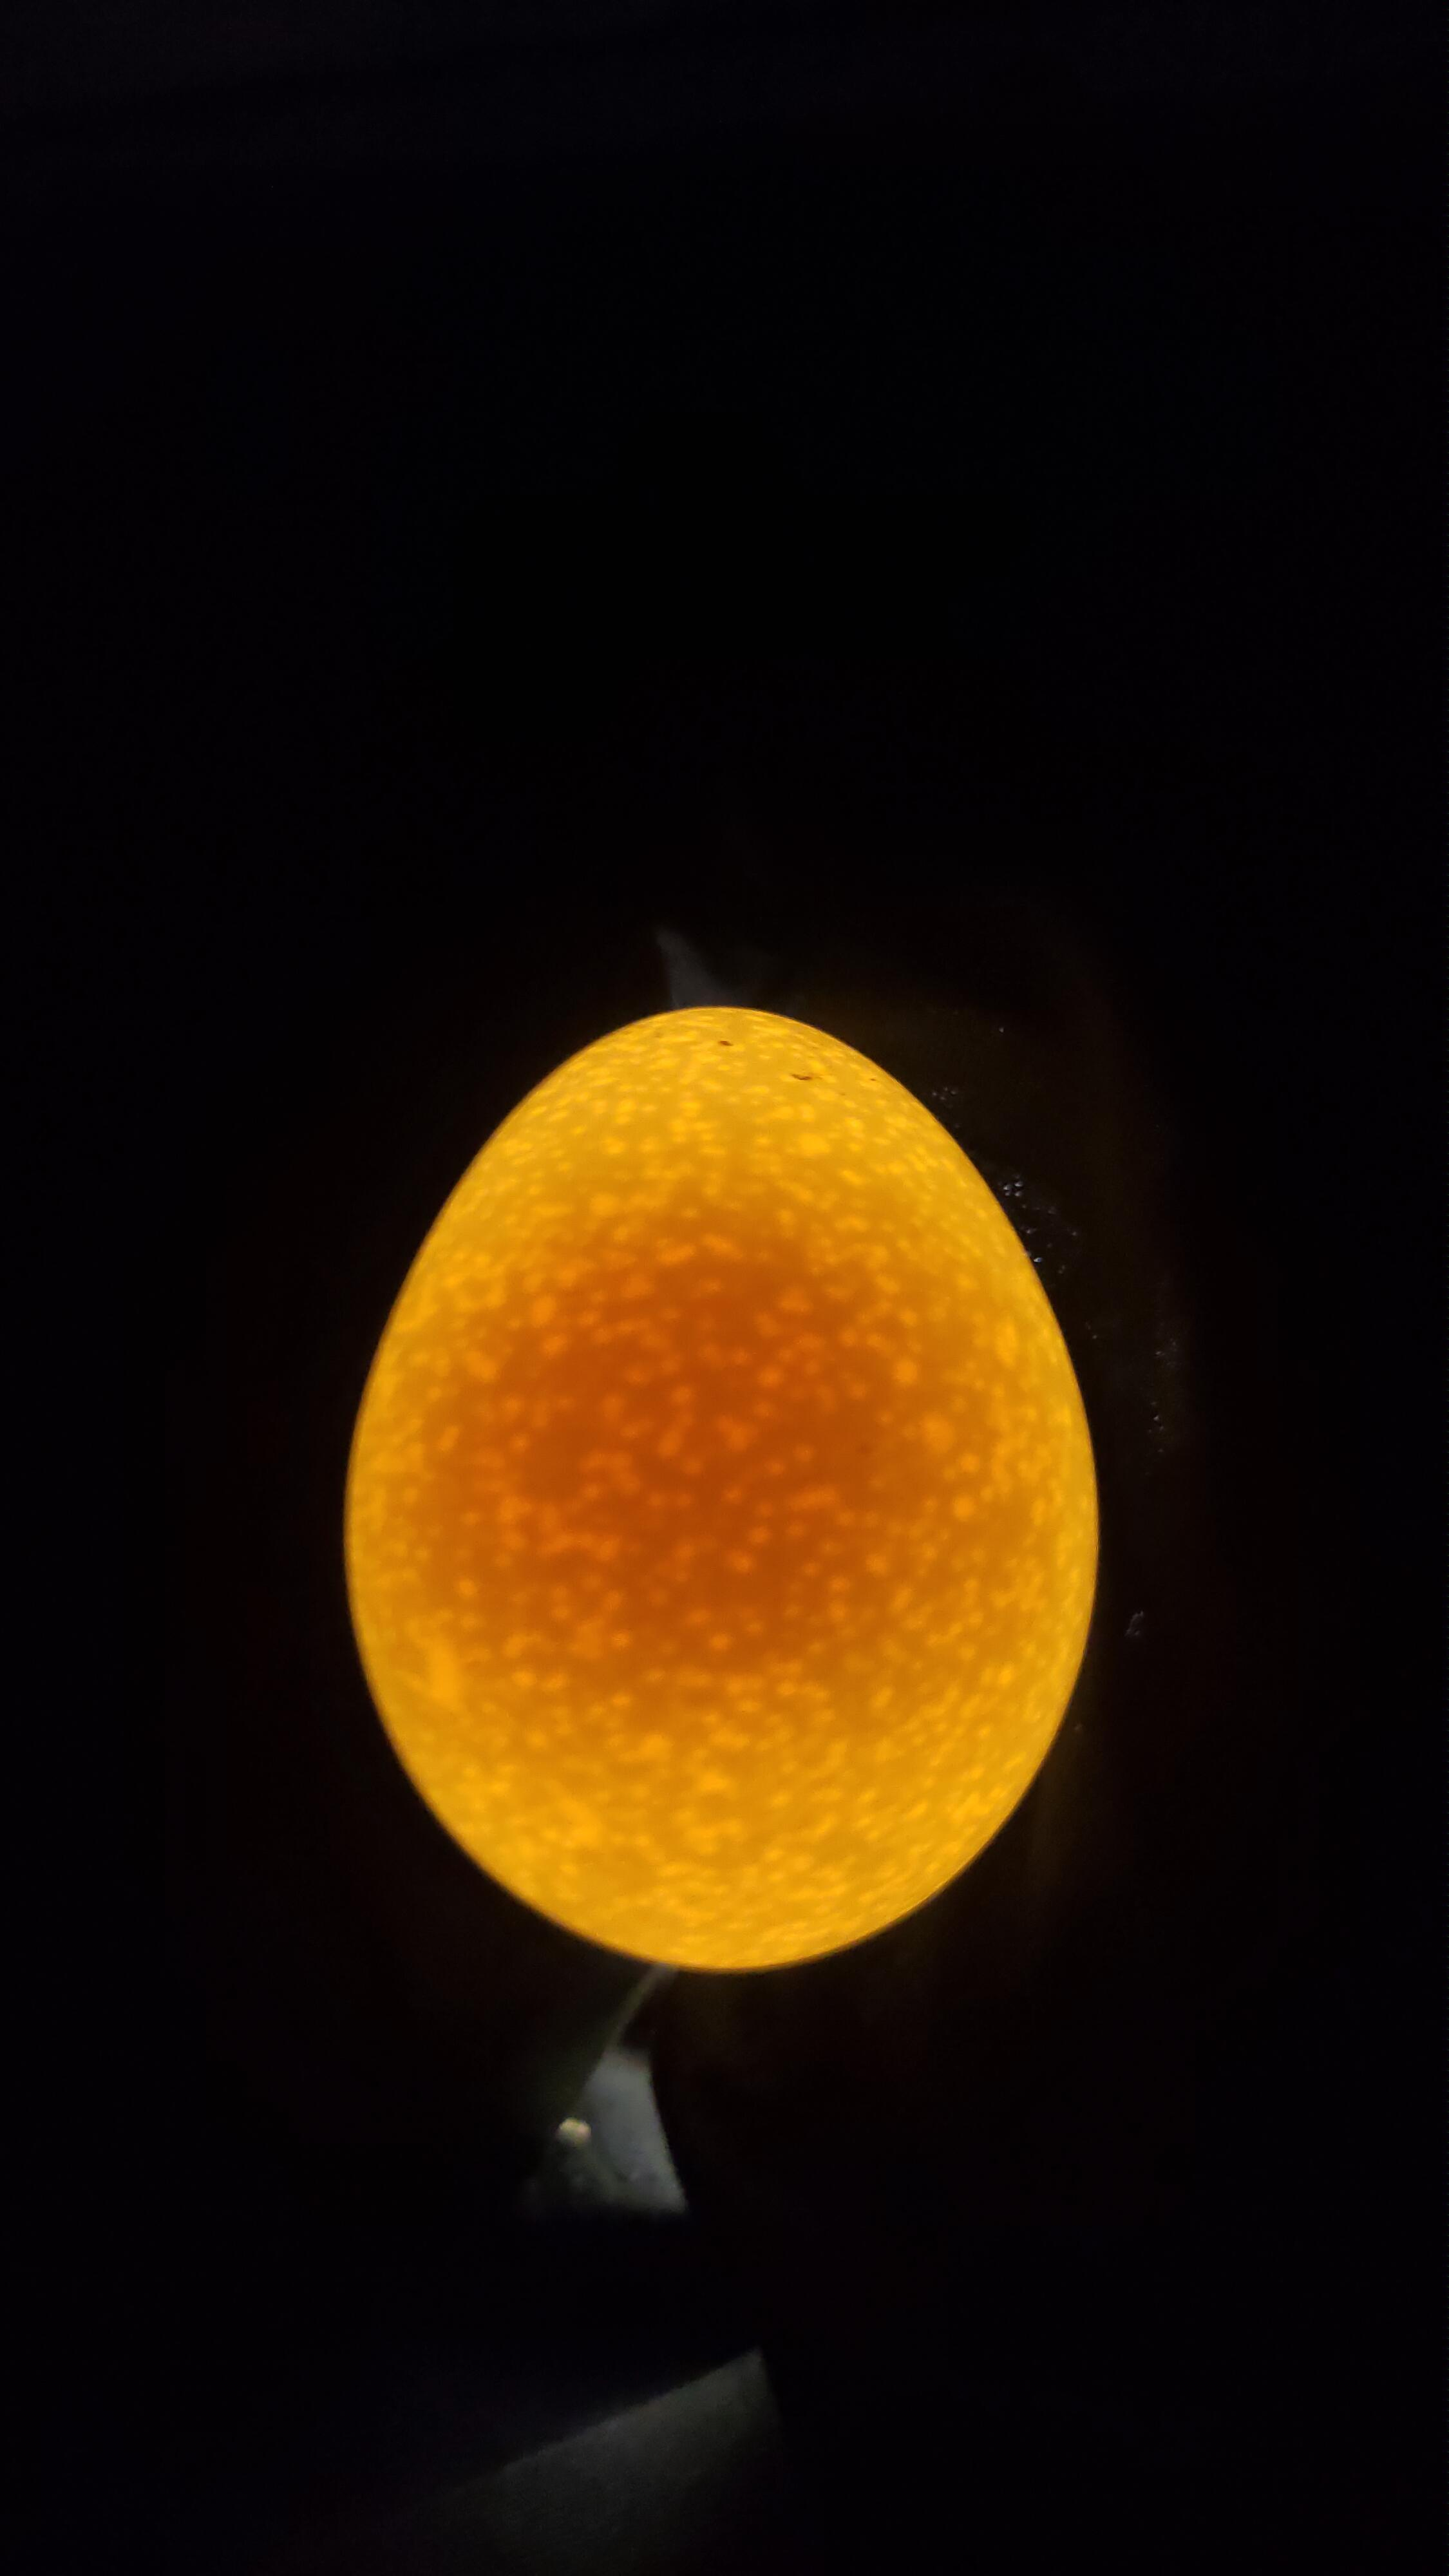A - Good: (315, 966, 1185, 2022)
